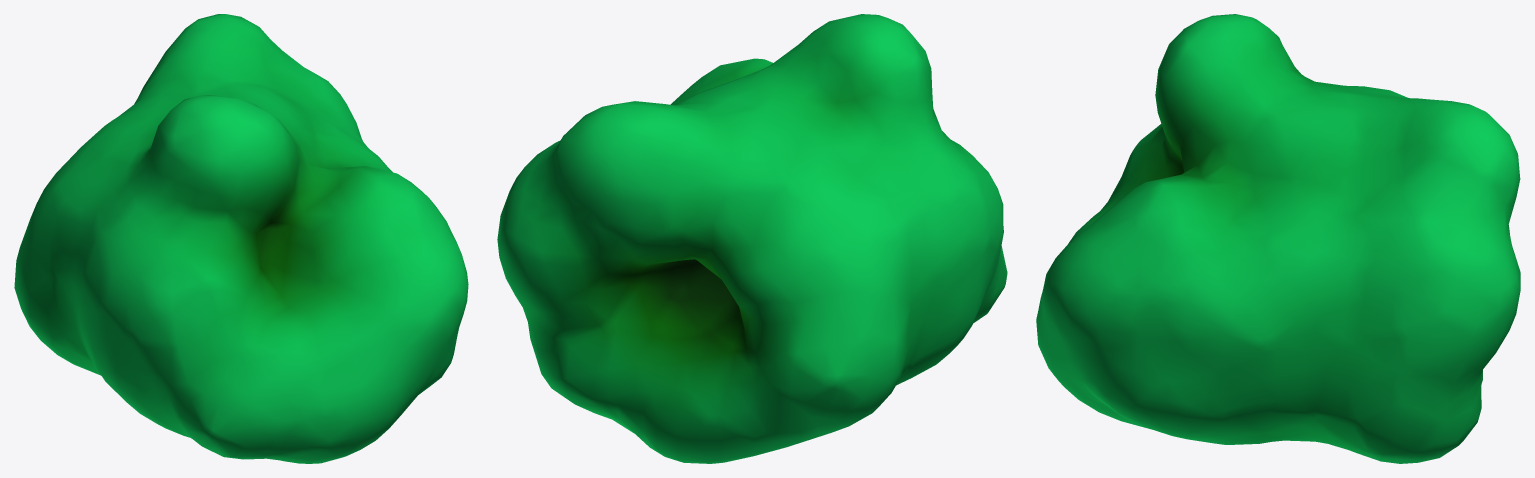
Rendered from PHO4.fbx.
The picture shows the model from 3 angles, left to right: view 1: azimuth 30°, elevation 25°; view 2: azimuth 150°, elevation 25°; view 3: azimuth 270°, elevation 25°; orthographic projection. The views are drawn at different scales.
Visible parts, largest first — view 1: chain_A_surface; view 2: chain_A_surface; view 3: chain_A_surface.
Boxes of the visible parts, bbox=[...] form: chain_A_surface: bbox=[14, 14, 468, 463]; chain_A_surface: bbox=[497, 14, 1007, 463]; chain_A_surface: bbox=[1036, 14, 1520, 463].
Size of the model in its own units: 59.19 by 58.08 by 66.54.
